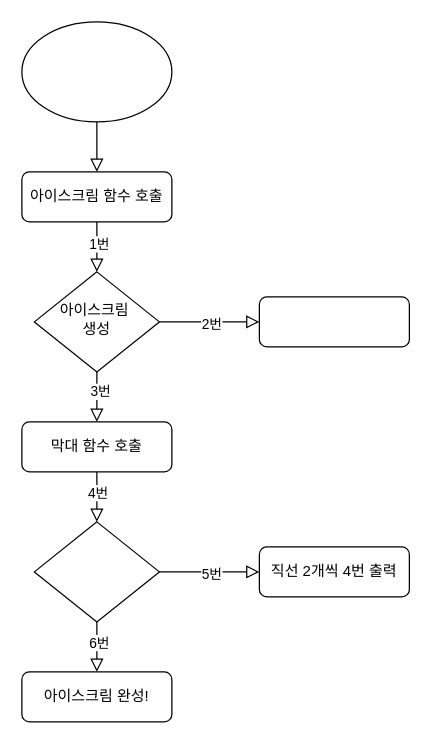
Some shapes in this 431 by 744 pixel diagram are drawn without their labels. Each missing label, with the centre of its shape:
"별 모양 11개씩 8번 출력" belongs at [333,321].
"아이스크림 막대 생성" belongs at [96,571].
"아이스크림 만들기! 시작!" belongs at [96,71].
